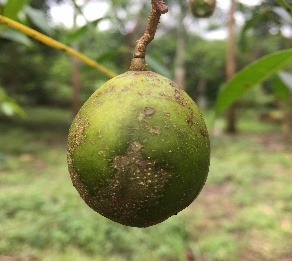Coc: (55, 64, 226, 234)
